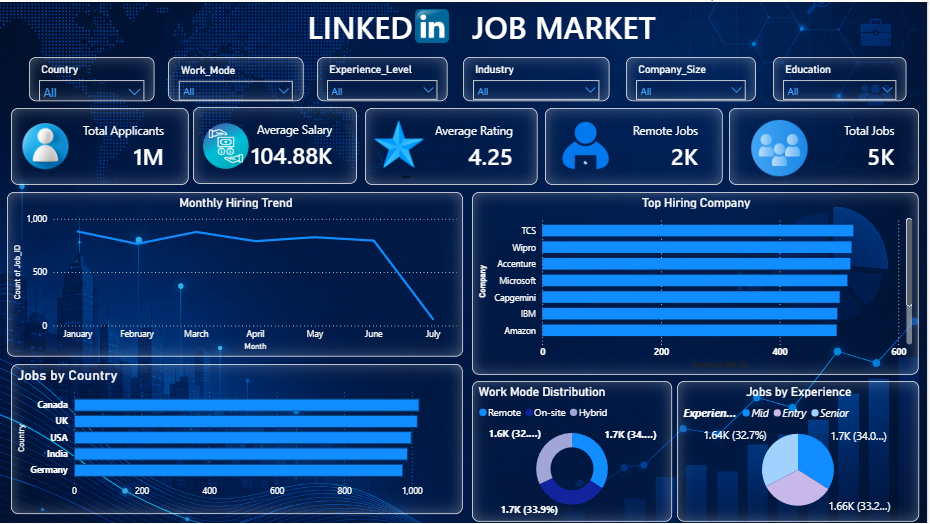

The page's visual inventory and layout, read from the dashboard file:
{"tool":"powerbi","page":{"name":"Page 1","canvas":[1280,720],"ordinal":0},"visuals":[{"type":"cardVisual","fields":{"Data":["LinkedIn Jobs 2026.Remote Jobs"]},"box":[741.8,136.3,245,106],"z":0},{"type":"clusteredBarChart","title":"Jobs by Country","fields":{"Y":["CountNonNull(LinkedIn Jobs 2026.Job_ID)"],"Category":["LinkedIn Jobs 2026.Country"]},"box":[256,496.9,384,206.5],"z":1000},{"type":"pieChart","title":" Jobs by Experience","fields":{"Y":["CountNonNull(LinkedIn Jobs 2026.Job_ID)"],"Category":["LinkedIn Jobs 2026.Experience_Level"]},"box":[652.4,531.3,308.3,172],"z":2000},{"type":"donutChart","title":"Work Mode Distribution","fields":{"Category":["LinkedIn Jobs 2026.Work_Mode"],"Y":["CountNonNull(LinkedIn Jobs 2026.Job_ID)"]},"box":[5.5,494.1,243.6,209.2],"z":3000},{"type":"lineChart","title":"Monthly Hiring Trend","fields":{"Category":["LinkedIn Jobs 2026.Posted_Date.Variation.Date Hierarchy.Month"],"Y":["CountNonNull(LinkedIn Jobs 2026.Job_ID)"]},"box":[11,251.9,629,236.7],"z":5000},{"type":"clusteredBarChart","title":"Top Hiring Company","fields":{"Y":["CountNonNull(LinkedIn Jobs 2026.Job_ID)"],"Category":["LinkedIn Jobs 2026.Company"]},"box":[652.4,251.9,616.6,271.1],"z":6000},{"type":"donutChart","title":"Job Status","fields":{"Category":["LinkedIn Jobs 2026.Status"],"Y":["CountNonNull(LinkedIn Jobs 2026.Job_ID)"]},"box":[970.3,525.8,306.9,177.5],"z":7000},{"type":"slicer","fields":{"Values":["LinkedIn Jobs 2026.Country"]},"box":[17.9,57.8,173.4,78.5],"z":8000},{"type":"slicer","fields":{"Values":["LinkedIn Jobs 2026.Work_Mode"]},"box":[202.3,57.8,187.2,60.6],"z":9000},{"type":"slicer","fields":{"Values":["LinkedIn Jobs 2026.Experience_Level"]},"box":[406,57.8,180.3,60.6],"z":10000},{"type":"slicer","fields":{"Values":["LinkedIn Jobs 2026.Industry"]},"box":[612.5,57.8,202.3,60.6],"z":11000},{"type":"slicer","fields":{"Values":["LinkedIn Jobs 2026.Company_Size"]},"box":[829.9,57.8,178.9,60.6],"z":12000},{"type":"slicer","fields":{"Values":["LinkedIn Jobs 2026.Education"]},"box":[1030.9,57.8,184.4,60.6],"z":13000},{"type":"cardVisual","fields":{"Data":["LinkedIn Jobs 2026.Total Jobs"]},"box":[1024,136.3,245,106],"z":14000},{"type":"cardVisual","fields":{"Data":["LinkedIn Jobs 2026.Average Rating"]},"box":[496.9,136.3,245,106],"z":15000},{"type":"cardVisual","fields":{"Data":["LinkedIn Jobs 2026.Total Applicants"]},"box":[11,136.3,245,106],"z":16000},{"type":"cardVisual","fields":{"Data":["LinkedIn Jobs 2026.Average Salary"]},"box":[251.9,136.3,245,106],"z":17000},{"type":"textbox","box":[100.5,0,1125.8,72.9],"z":17001}]}

Visuals, with their boxes in screenshot pixels (x1, y1, x2, y2), scaled from the page's 1280x720 canvas onto the 930x524 screenshot:
cardVisual - LinkedIn Jobs 2026.Remote Jobs: 539, 99, 717, 176
"Jobs by Country" clusteredBarChart: 186, 362, 465, 512
" Jobs by Experience" pieChart: 474, 387, 698, 512
"Work Mode Distribution" donutChart: 4, 360, 181, 512
"Monthly Hiring Trend" lineChart: 8, 183, 465, 356
"Top Hiring Company" clusteredBarChart: 474, 183, 922, 381
"Job Status" donutChart: 705, 383, 928, 512
slicer - LinkedIn Jobs 2026.Country: 13, 42, 139, 99
slicer - LinkedIn Jobs 2026.Work_Mode: 147, 42, 283, 86
slicer - LinkedIn Jobs 2026.Experience_Level: 295, 42, 426, 86
slicer - LinkedIn Jobs 2026.Industry: 445, 42, 592, 86
slicer - LinkedIn Jobs 2026.Company_Size: 603, 42, 733, 86
slicer - LinkedIn Jobs 2026.Education: 749, 42, 883, 86
cardVisual - LinkedIn Jobs 2026.Total Jobs: 744, 99, 922, 176
cardVisual - LinkedIn Jobs 2026.Average Rating: 361, 99, 539, 176
cardVisual - LinkedIn Jobs 2026.Total Applicants: 8, 99, 186, 176
cardVisual - LinkedIn Jobs 2026.Average Salary: 183, 99, 361, 176
textbox: 73, 0, 891, 53
